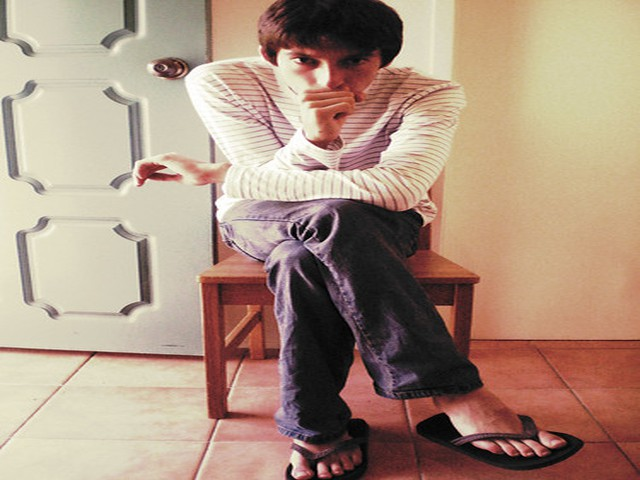Person: (139, 6, 593, 464)
